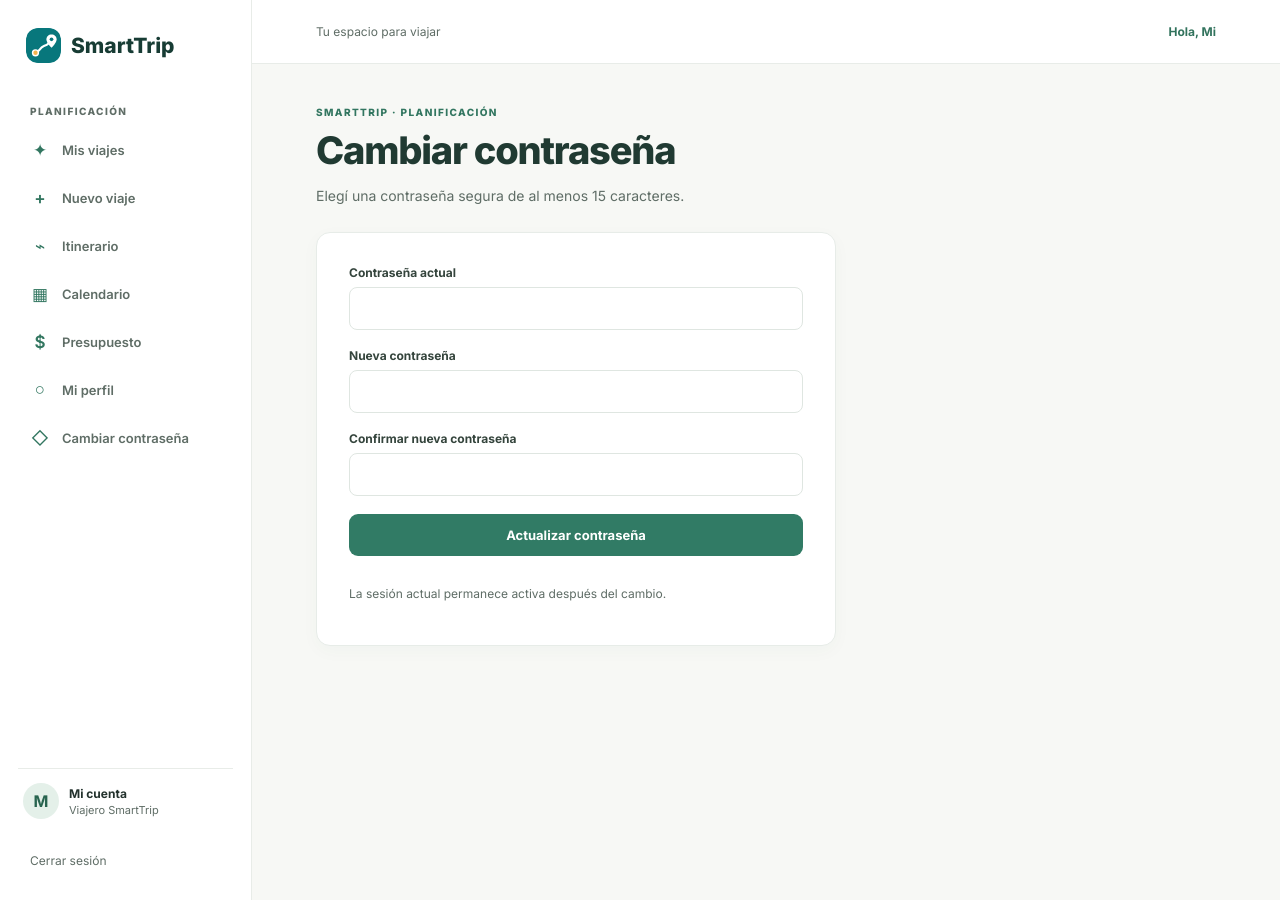
Test case: ChangePassword › exige al menos 15 caracteres
The width and height of the screenshot is (1280, 900).
Type "actual" into the password field labelled "Contraseña actual" at (576, 308), box left=349, top=287, right=803, bottom=330
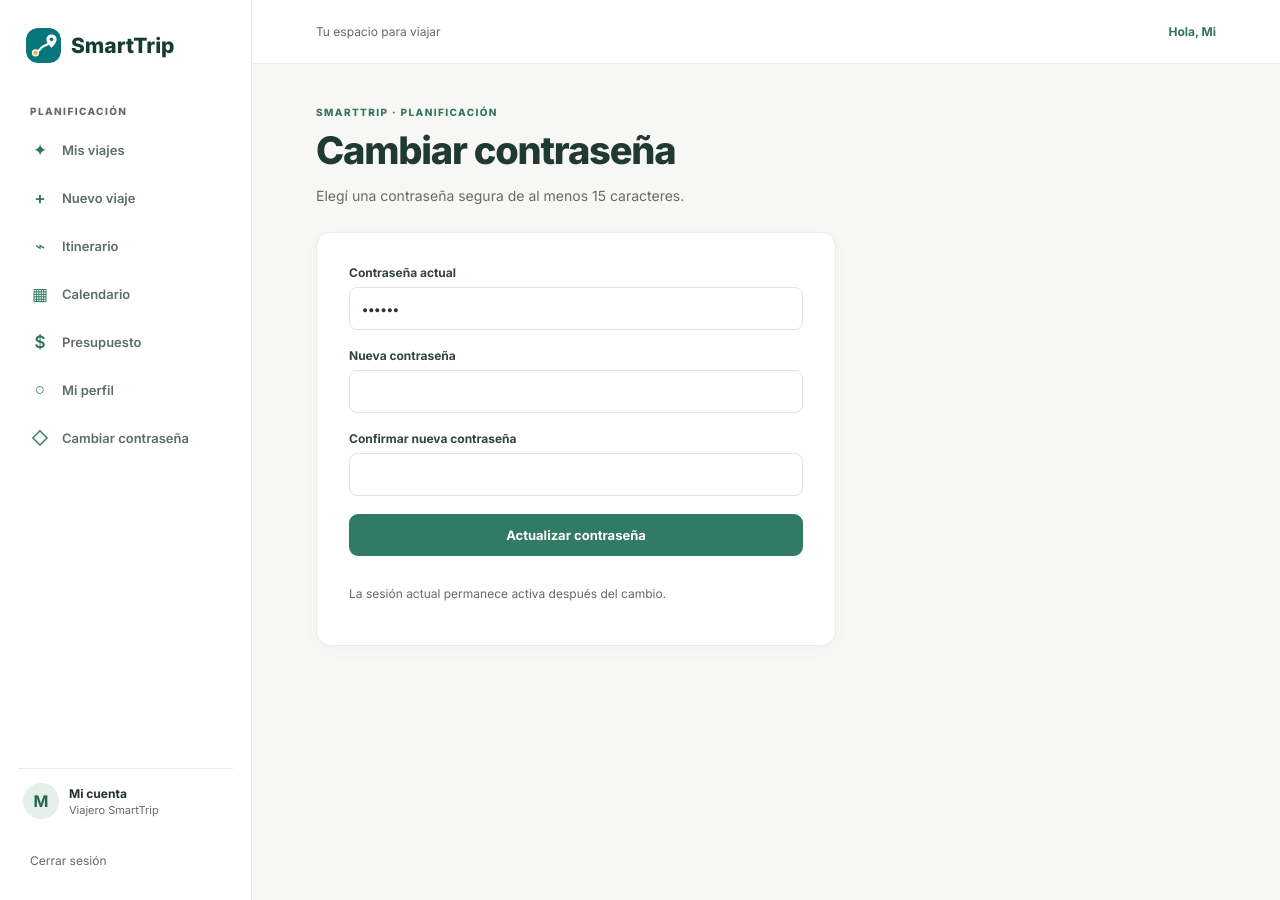
Type "corta" into the password field labelled "Nueva contraseña" at (576, 392), box left=349, top=370, right=803, bottom=413
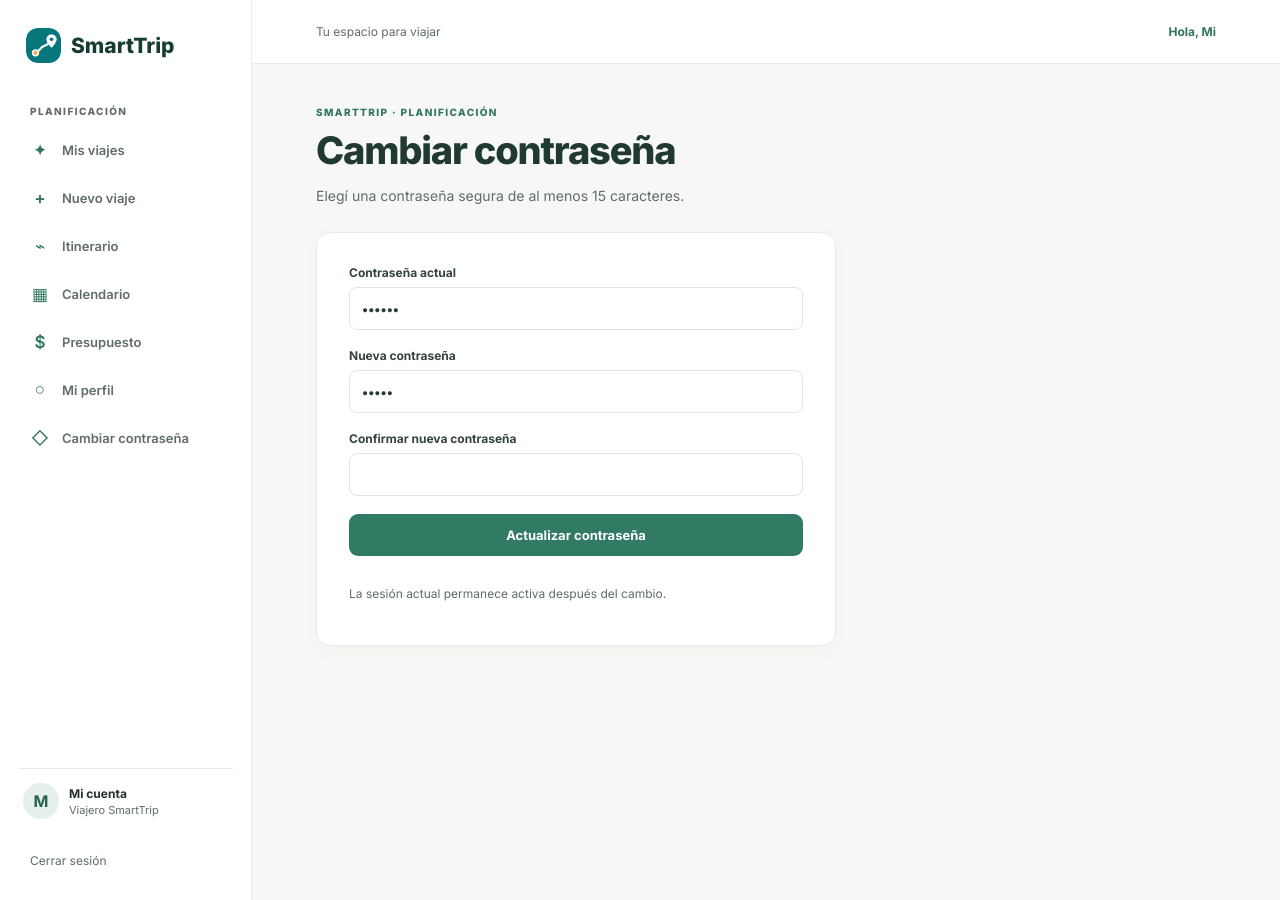
Type "corta" into the password field labelled "Confirmar nueva contraseña" at (576, 474), box left=349, top=453, right=803, bottom=496
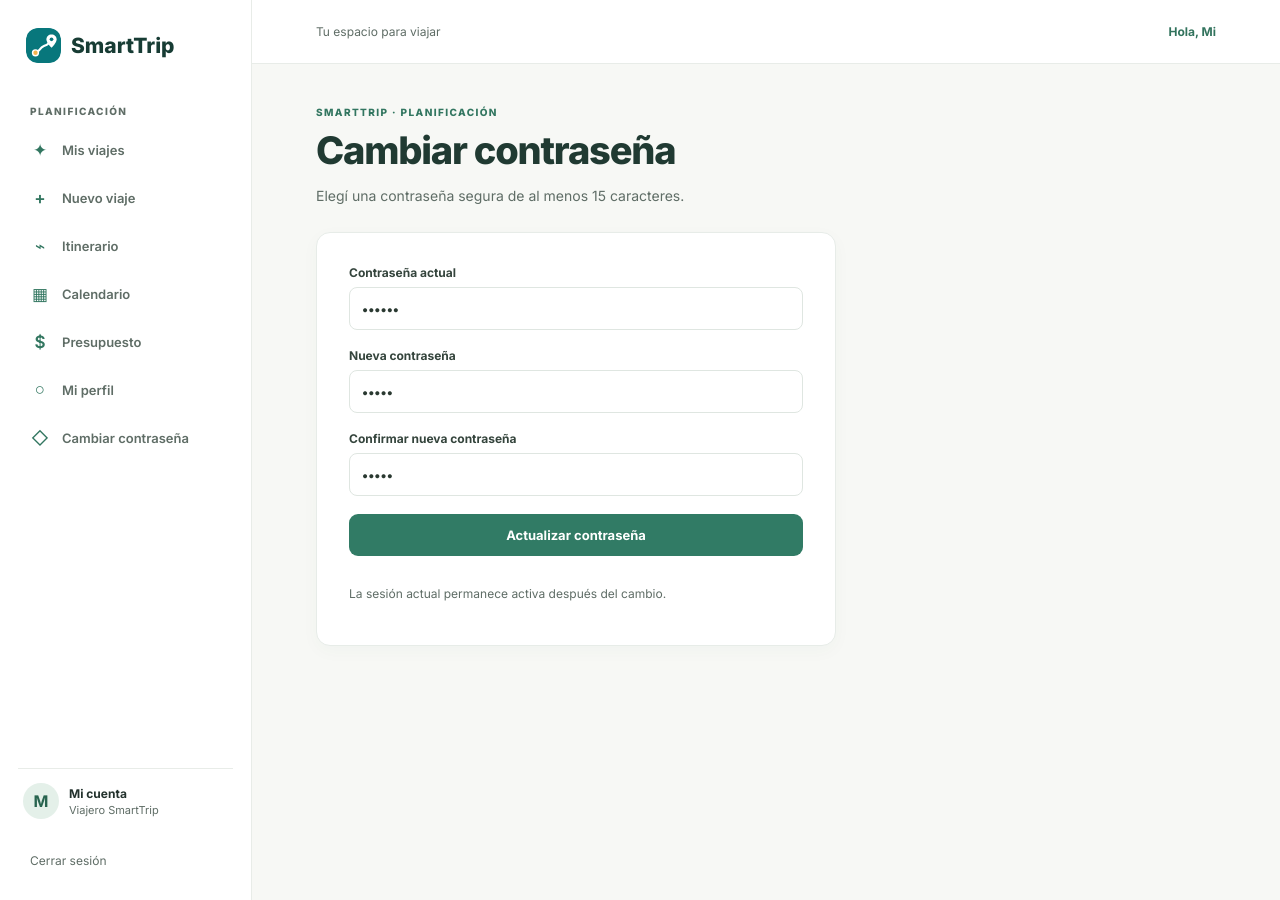
Click the button "Actualizar contraseña" at (576, 535), box left=349, top=514, right=803, bottom=556
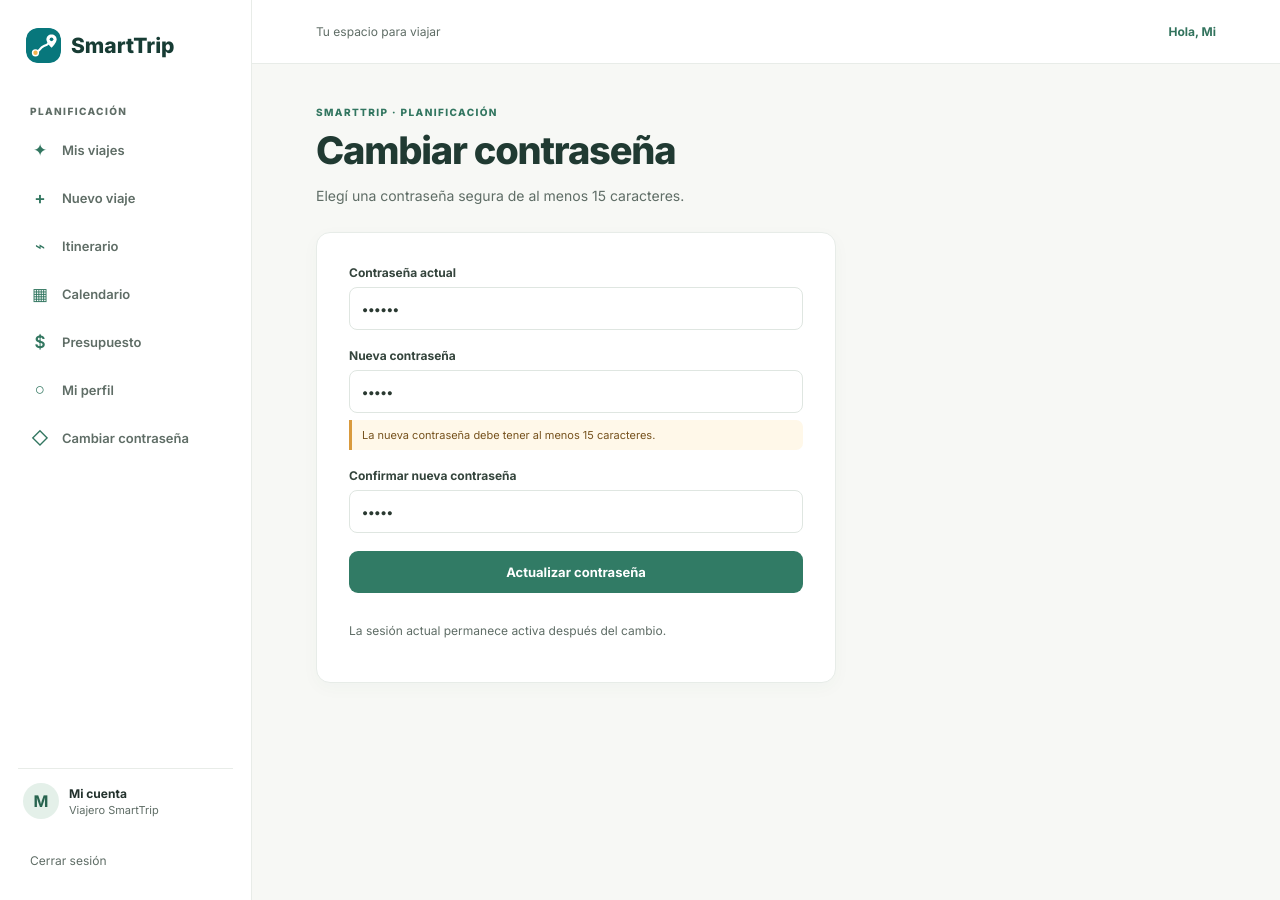
Expected: the text "La nueva contraseña debe tener al menos 15 caracteres." is shown, left=349, top=420, right=803, bottom=450
